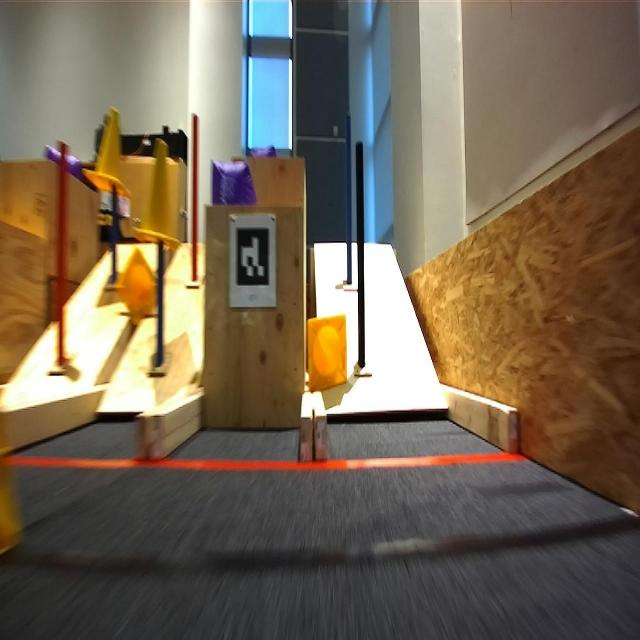frc_cone: (131, 137, 182, 252), (82, 107, 130, 197), (114, 243, 158, 329), (0, 383, 20, 565), (305, 314, 349, 394)
frc_cube: (206, 159, 257, 208), (42, 140, 78, 177), (246, 140, 279, 159)
